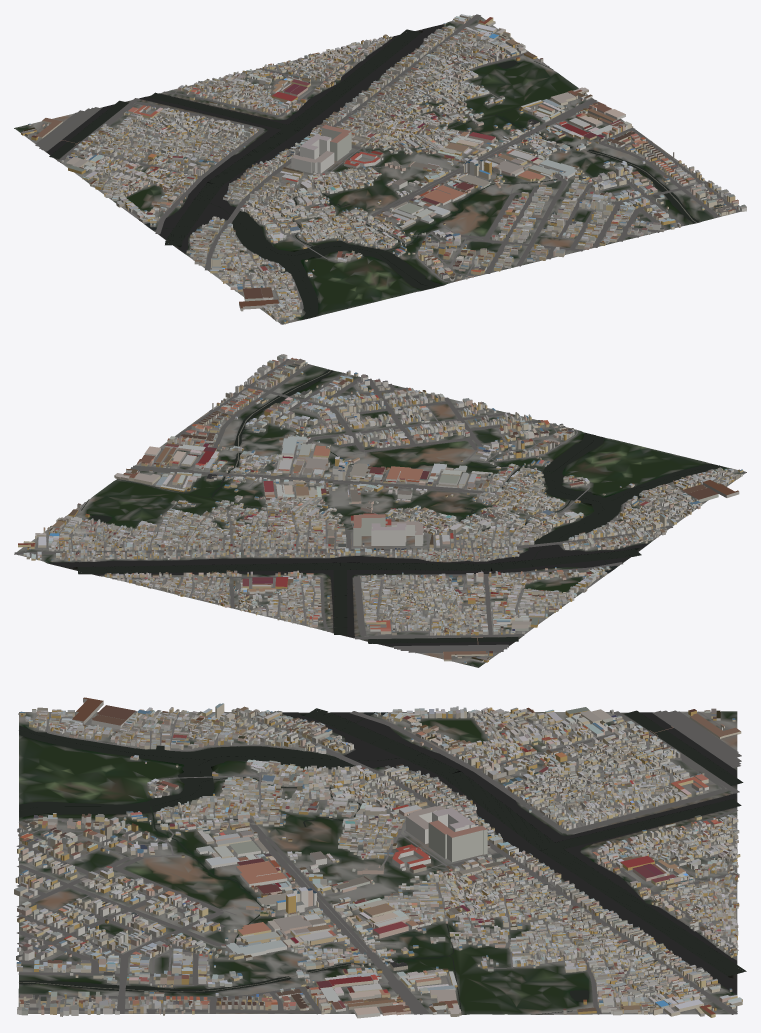
3 renders of one model, top to bottom at view 1: azimuth 30°, elevation 25°; view 2: azimuth 150°, elevation 25°; view 3: azimuth 270°, elevation 25°, orthographic. The views are drawn at different scales.
Parts seen in each view (by area): view 1: buildings, ground, water, roads; view 2: buildings, ground, water, roads; view 3: buildings, ground, water, roads.
Boxes of the visible parts, x1,y1,x2,y2 form: buildings: (21, 14, 746, 323); ground: (14, 15, 741, 323); water: (46, 24, 698, 319); roads: (28, 14, 740, 324); buildings: (18, 354, 743, 663); ground: (14, 358, 746, 667); water: (48, 369, 725, 646); roads: (14, 359, 746, 659); buildings: (14, 697, 742, 1018); ground: (18, 711, 737, 1014); water: (19, 708, 746, 1014); roads: (16, 710, 741, 1014).
Size of the model in its own units: 1469 by 58.83 by 1429.
